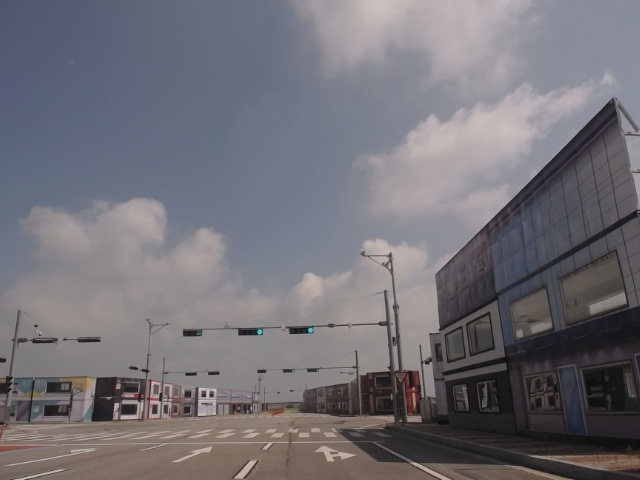straight_green_4: (240, 328, 263, 337), (287, 327, 314, 333)
